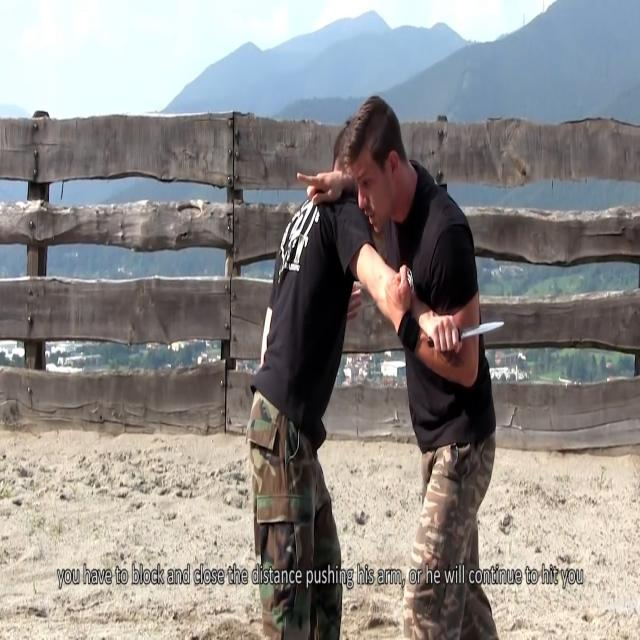knife: (461, 319, 511, 343)
